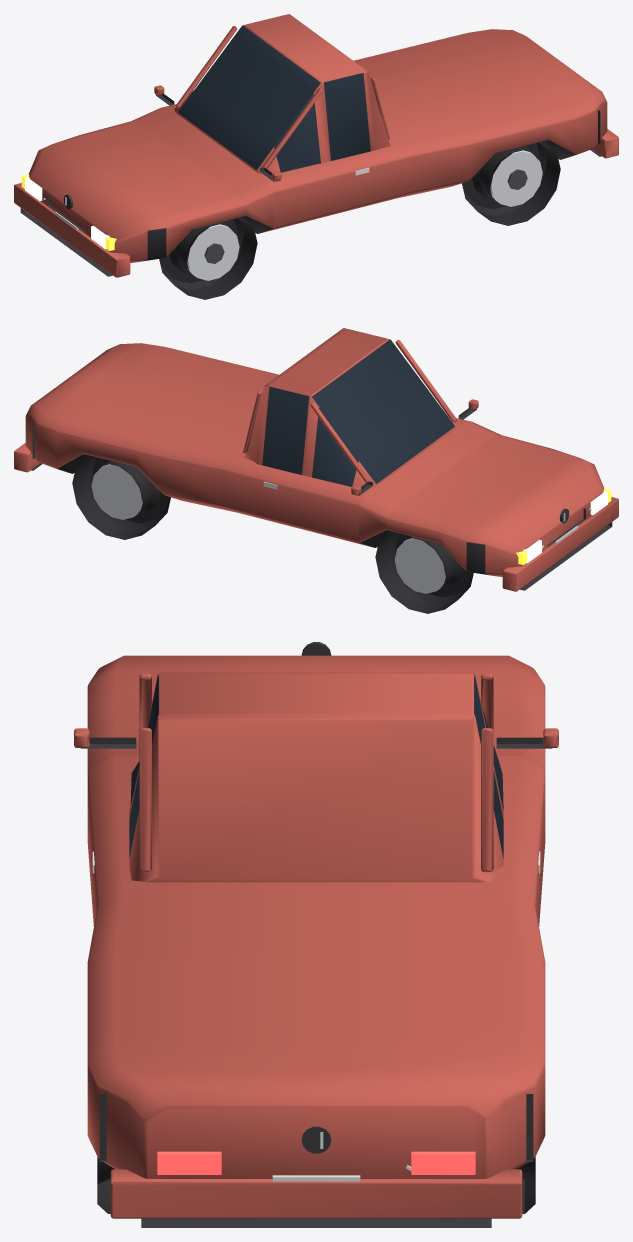
File: car_stampede.glb
The picture shows the model from 3 angles, top to bottom: view 1: azimuth 30°, elevation 25°; view 2: azimuth 150°, elevation 25°; view 3: azimuth 270°, elevation 25°; orthographic projection. The views are drawn at different scales.
Bounding box in the file's own units: 1.9 × 0.6361 × 0.7917.
